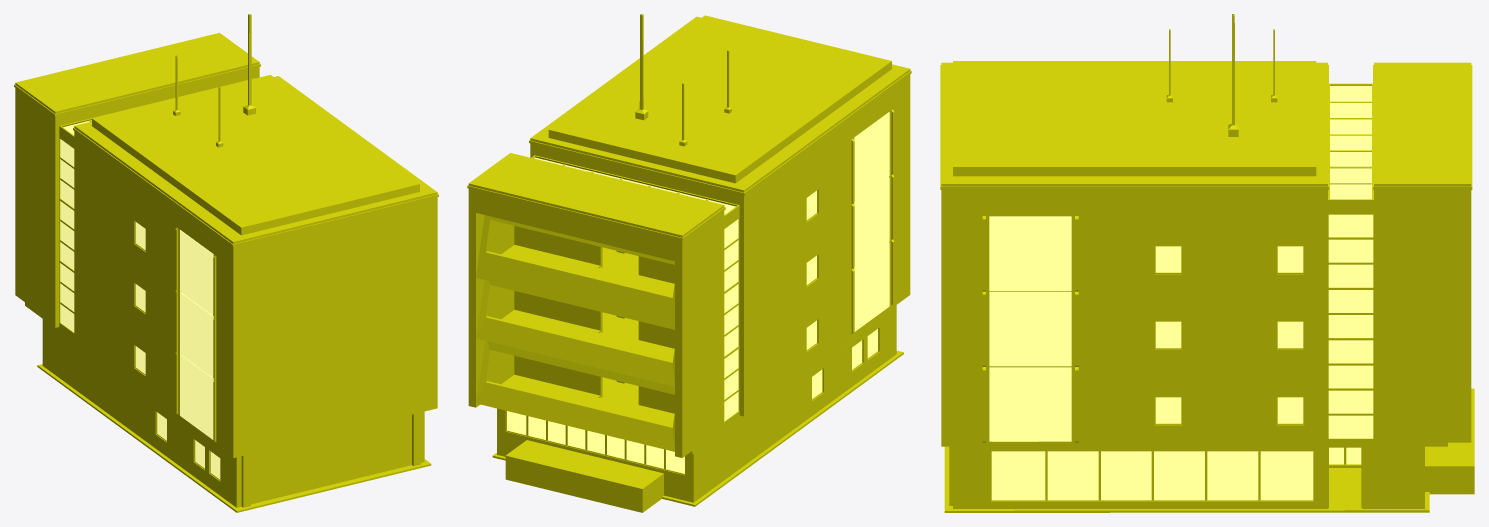
3 renders of one model, left to right at view 1: azimuth 30°, elevation 25°; view 2: azimuth 150°, elevation 25°; view 3: azimuth 270°, elevation 25°, orthographic. The views are drawn at different scales.
Visible parts, largest first — view 1: Residential Buildings 002; view 2: Residential Buildings 002; view 3: Residential Buildings 002.
Part boxes in pixels (x1,y1,x2,y2): Residential Buildings 002: (14,14,438,512); Residential Buildings 002: (467,14,911,512); Residential Buildings 002: (940,14,1474,512).
Bounding box in the file's own units: 12.59 × 21.99 × 23.1.
2 materials, 2 textured.
